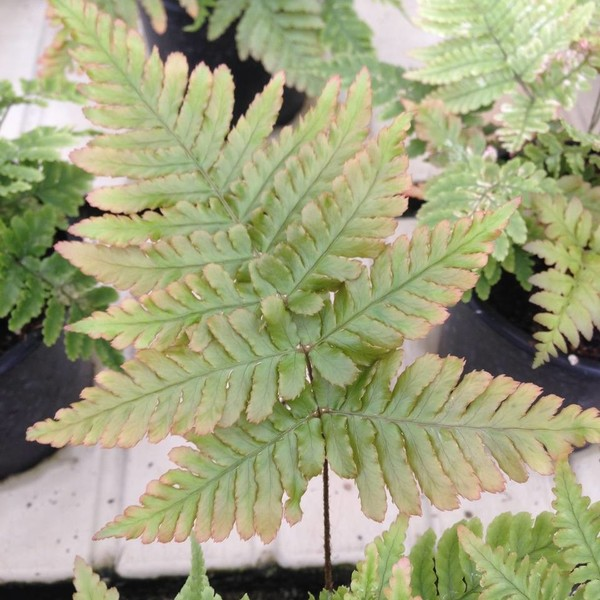obstacle: (64, 33, 530, 491)
